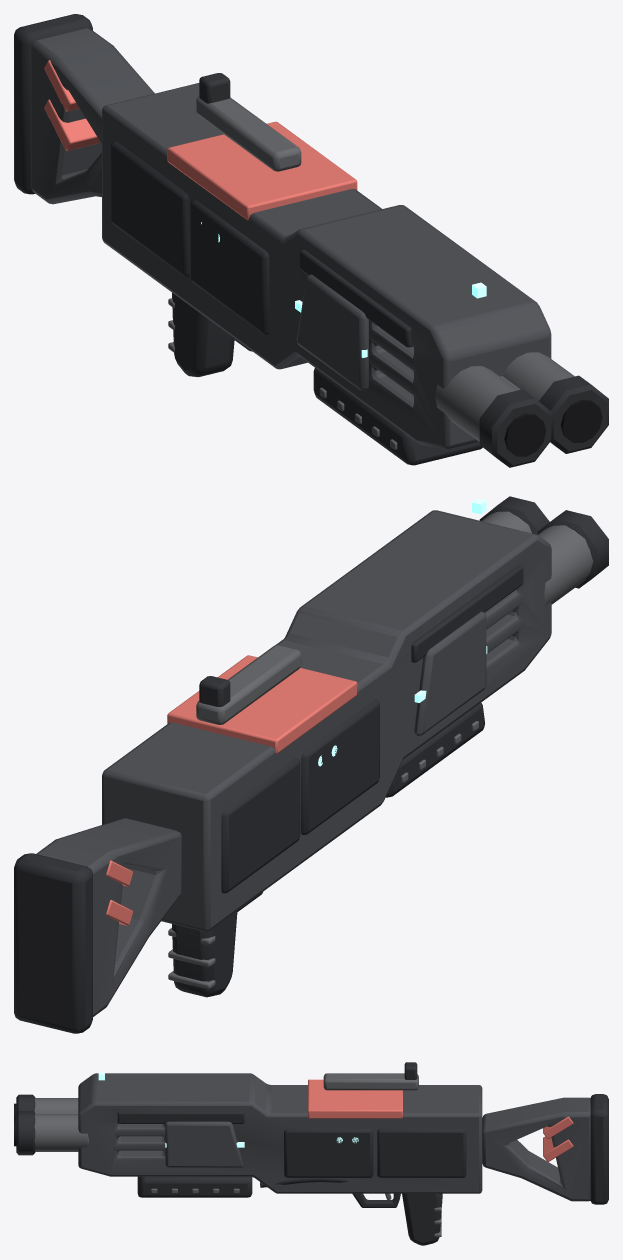
File: shotgun.glb
The picture shows the model from 3 angles, top to bottom: view 1: azimuth 30°, elevation 25°; view 2: azimuth 150°, elevation 25°; view 3: azimuth 270°, elevation 25°; orthographic projection. The views are drawn at different scales.
Parts seen in each view (by area): view 1: receiver.002, stock.002, stripe.002, plate.026, plate.024, plate.028, stockPad.002, sightRail, pump, grip.003, barrel.007, muzzleCap (+7 smaller); view 2: receiver.002, stockPad.002, stock.002, stripe.002, plate.024, plate.026, plate.028, grip.003, sightRail, barrel.007, pump, topBand (+3 smaller); view 3: receiver.002, stock.002, plate.025, plate.027, plate.029, stripe.002, pump, stockPad.002, barrel.008, grip.003, sightRail, topBand (+7 smaller).
Part boxes in pixels (x1,y1,x2,y2): receiver.002: (102, 83, 551, 449); stock.002: (31, 28, 154, 204); stripe.002: (167, 121, 357, 220); plate.026: (190, 199, 269, 334); plate.024: (111, 141, 189, 276); plate.028: (296, 274, 368, 390); stockPad.002: (14, 14, 92, 194); sightRail: (196, 97, 301, 171); pump: (313, 368, 482, 465); grip.003: (172, 293, 234, 377); barrel.007: (435, 366, 518, 441); muzzleCap: (479, 389, 551, 467); receiver.002: (102, 510, 551, 931); stockPad.002: (14, 853, 92, 1033); stock.002: (36, 818, 181, 1016); stripe.002: (167, 655, 357, 753); plate.024: (221, 758, 300, 893); plate.026: (301, 699, 379, 835); plate.028: (414, 611, 486, 735); grip.003: (172, 910, 237, 997); sightRail: (196, 645, 301, 724); barrel.007: (537, 525, 593, 605); pump: (385, 703, 484, 797); topBand: (411, 565, 523, 662); receiver.002: (78, 1073, 482, 1193); stock.002: (482, 1097, 590, 1201); plate.025: (377, 1129, 466, 1177); plate.027: (284, 1129, 373, 1177); plate.029: (165, 1121, 243, 1167); stripe.002: (308, 1079, 402, 1118); pump: (137, 1176, 252, 1197); stockPad.002: (590, 1094, 608, 1204); barrel.008: (34, 1114, 89, 1151); grip.003: (402, 1193, 442, 1245); sightRail: (323, 1073, 418, 1090); topBand: (117, 1111, 244, 1123).
Size of the model in its own units: 0.54 by 1.23 by 3.76.
